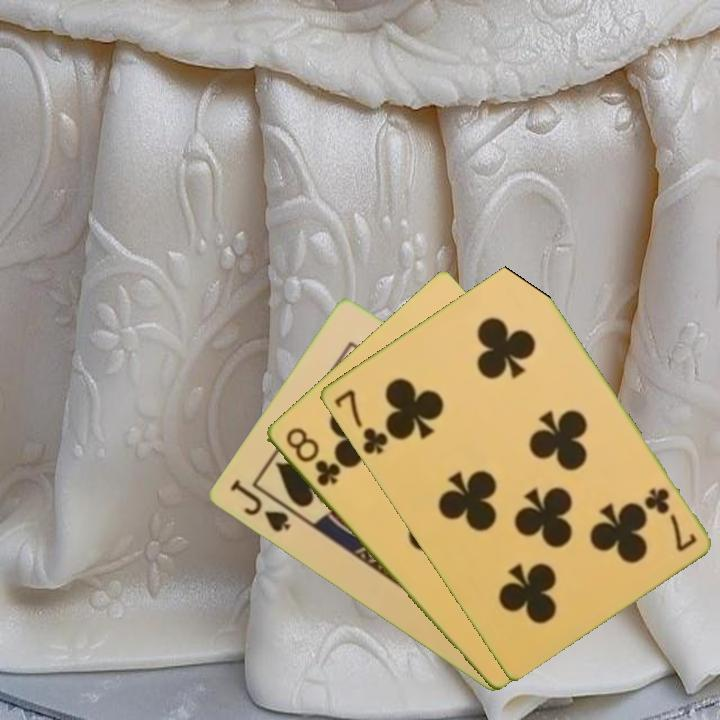7c: (330, 385, 391, 458), (640, 484, 699, 555)
8c: (281, 423, 343, 489)
Js: (226, 475, 293, 535)
